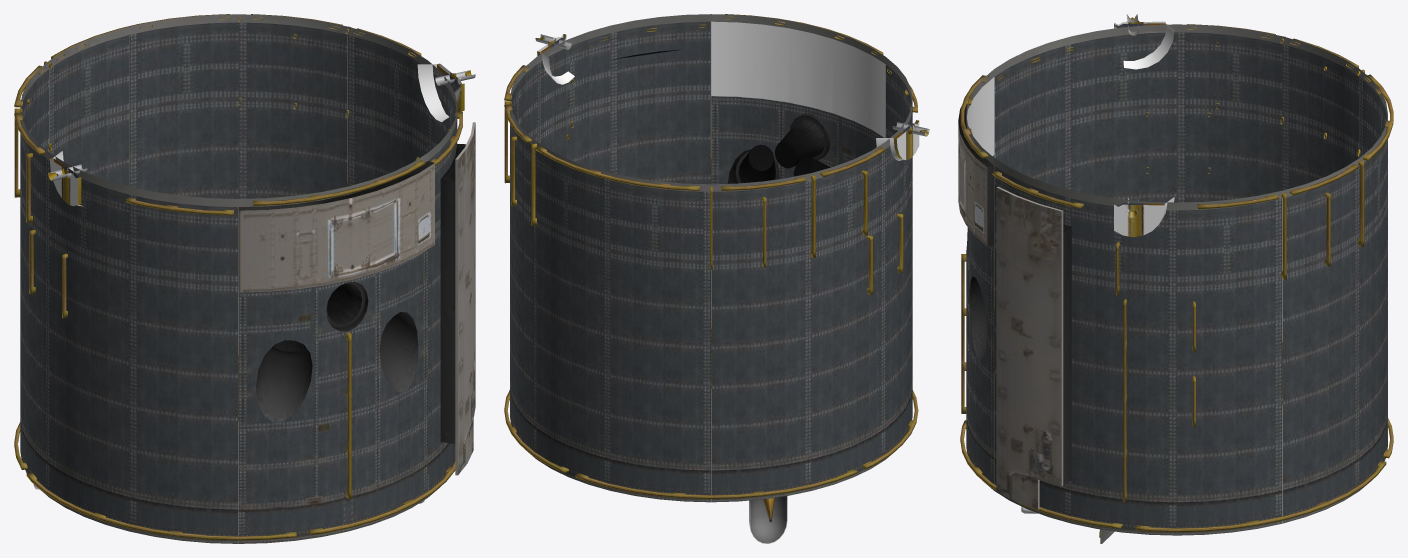
Rendered from hubble-aft-shroud.glb.
3 renders of one model, left to right at view 1: azimuth 30°, elevation 25°; view 2: azimuth 150°, elevation 25°; view 3: azimuth 270°, elevation 25°, orthographic. The views are drawn at different scales.
Visible parts, largest first — view 1: aft-shroud; view 2: aft-shroud; view 3: aft-shroud.
Part boxes in pixels (x1,y1,x2,y2): aft-shroud: (14, 14, 475, 543); aft-shroud: (504, 14, 929, 543); aft-shroud: (958, 14, 1393, 543).
Bounding box in the file's own units: 4.69 × 4.25 × 4.34.
1 material, 1 textured.
